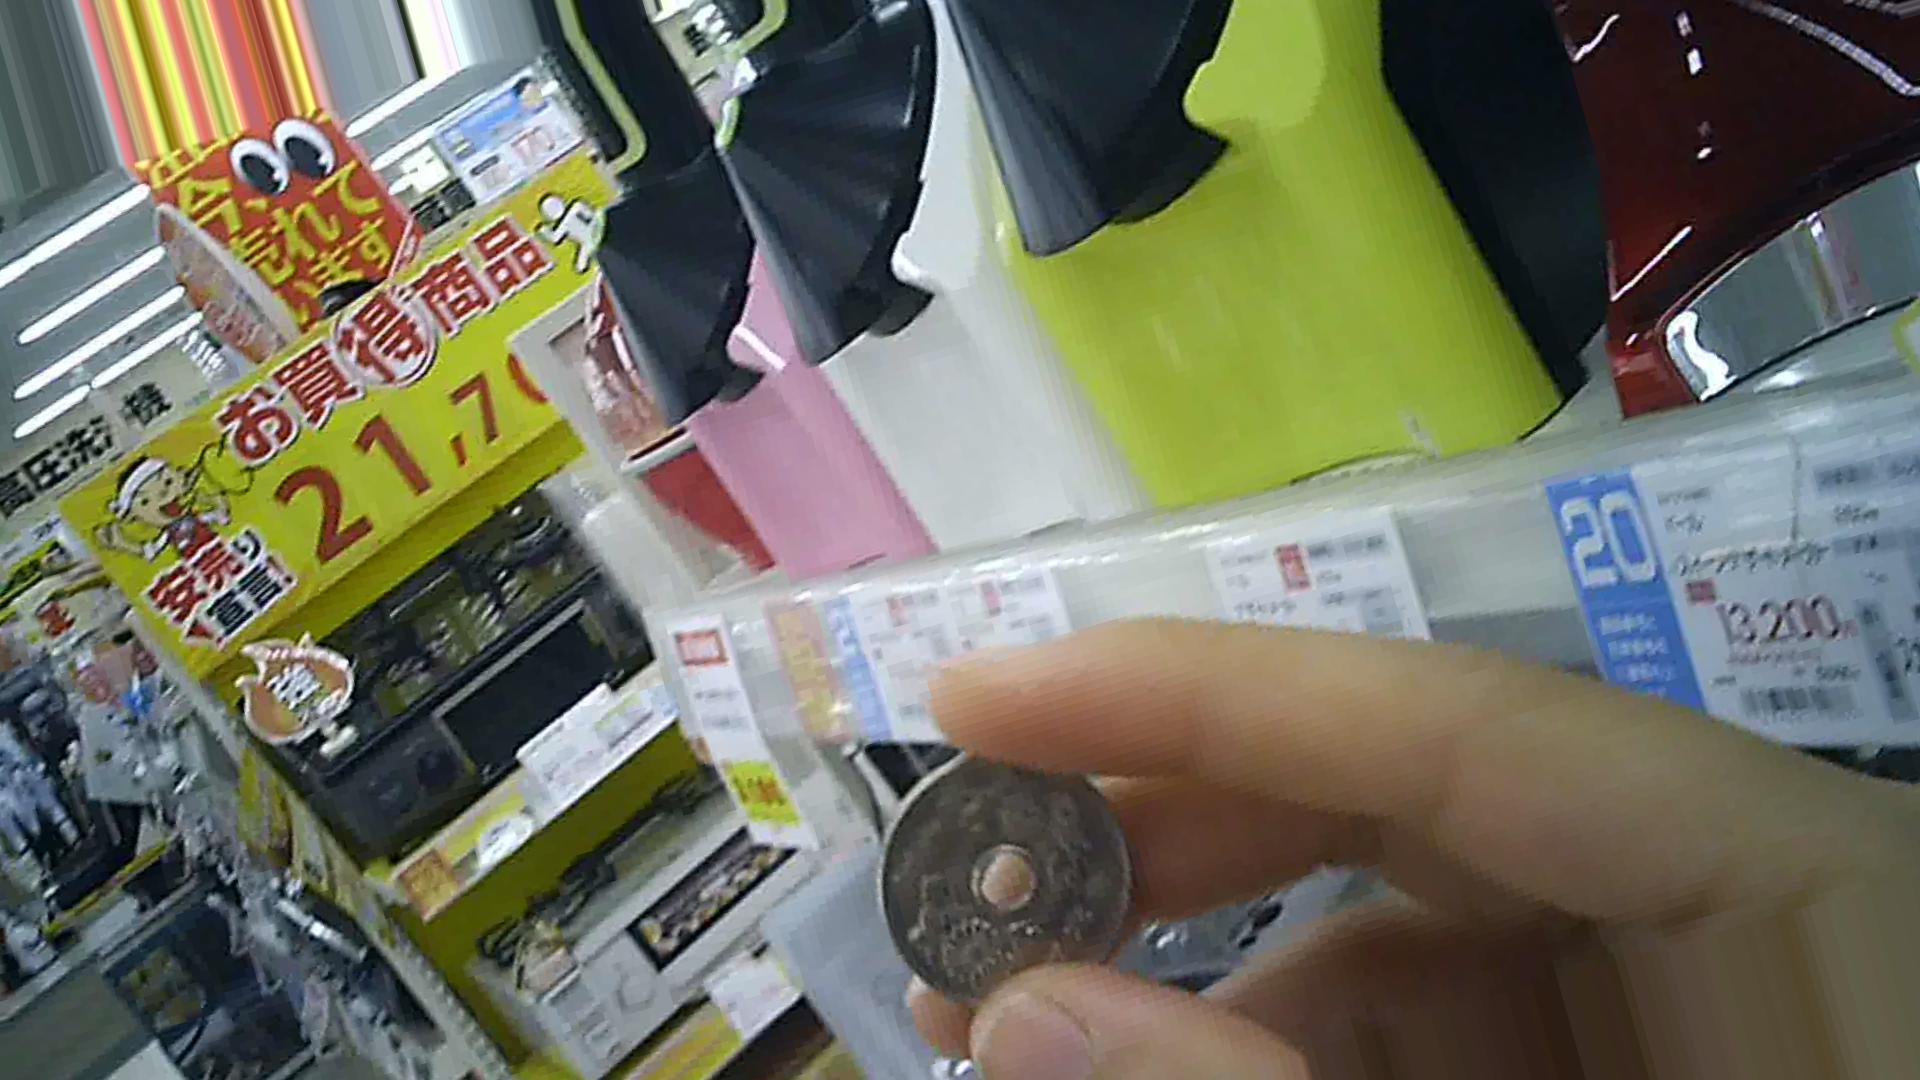50 Yen: (878, 744, 1131, 1021)
